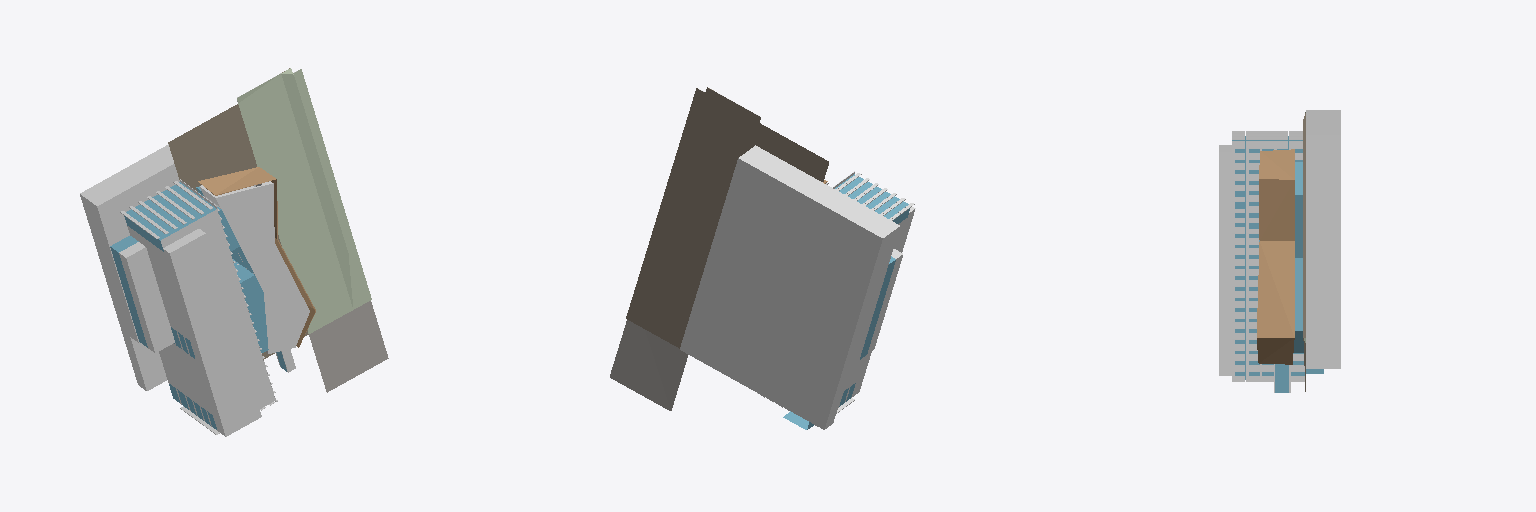
File: opt2-999.obj
3 views of the same model, side by side, from view 1: azimuth 30°, elevation 25°; view 2: azimuth 150°, elevation 25°; view 3: azimuth 270°, elevation 25° (orthographic).
Bounding box in the file's own units: 345 × 378 × 126.